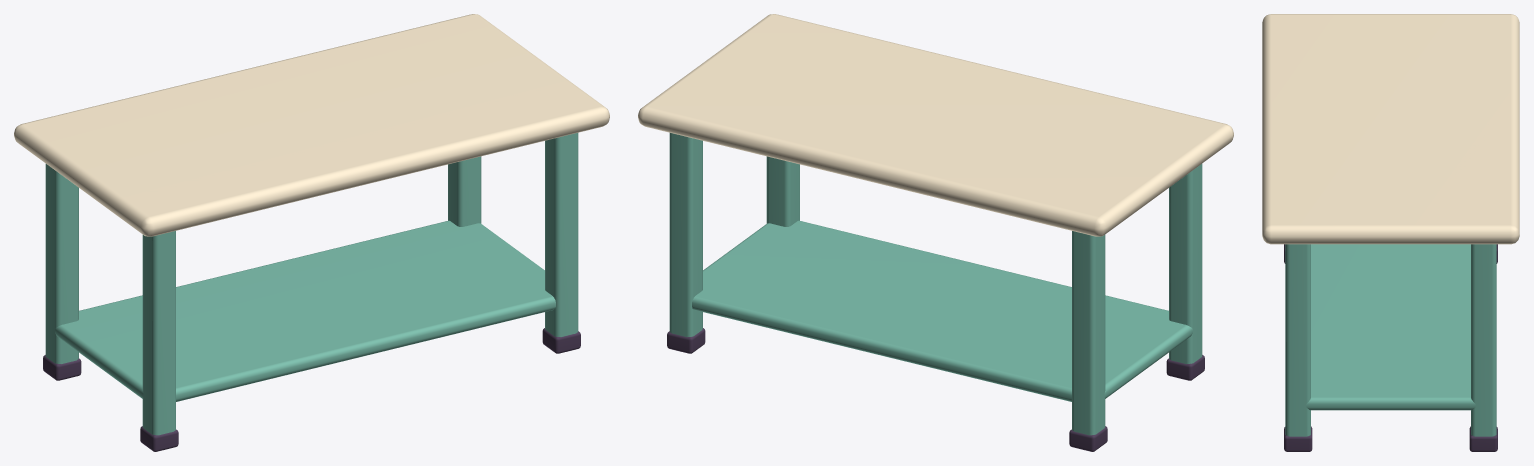
File: Prep_table.fbx
3 renders of one model, left to right at view 1: azimuth 30°, elevation 25°; view 2: azimuth 150°, elevation 25°; view 3: azimuth 270°, elevation 25°, orthographic. The views are drawn at different scales.
Parts seen in each view (by area): view 1: Toon_Prep_table Countertop.001, Toon_Prep_table Lower shelf.001, Toon_Prep_table Mint table leg.004, Toon_Prep_table Mint table leg.006, Toon_Prep_table Mint table leg.005, Toon_Prep_table Mint table leg.007, Toon_Prep_table Rubber foot.004, Toon_Prep_table Rubber foot.005, Toon_Prep_table Rubber foot.006; view 2: Toon_Prep_table Countertop.001, Toon_Prep_table Lower shelf.001, Toon_Prep_table Mint table leg.005, Toon_Prep_table Mint table leg.007, Toon_Prep_table Mint table leg.004, Toon_Prep_table Mint table leg.006, Toon_Prep_table Rubber foot.004, Toon_Prep_table Rubber foot.005, Toon_Prep_table Rubber foot.007; view 3: Toon_Prep_table Countertop.001, Toon_Prep_table Lower shelf.001, Toon_Prep_table Mint table leg.006, Toon_Prep_table Mint table leg.007, Toon_Prep_table Rubber foot.006, Toon_Prep_table Rubber foot.007.
Boxes of the visible parts, x1,y1,x2,y2 form: Toon_Prep_table Countertop.001: [14, 14, 609, 236]; Toon_Prep_table Lower shelf.001: [55, 220, 555, 401]; Toon_Prep_table Mint table leg.004: [142, 231, 175, 435]; Toon_Prep_table Mint table leg.006: [545, 133, 578, 336]; Toon_Prep_table Mint table leg.005: [45, 164, 78, 363]; Toon_Prep_table Mint table leg.007: [448, 156, 481, 226]; Toon_Prep_table Rubber foot.004: [140, 426, 178, 451]; Toon_Prep_table Rubber foot.005: [43, 355, 81, 380]; Toon_Prep_table Rubber foot.006: [542, 328, 580, 353]; Toon_Prep_table Countertop.001: [638, 14, 1233, 236]; Toon_Prep_table Lower shelf.001: [692, 220, 1192, 401]; Toon_Prep_table Mint table leg.005: [1072, 231, 1105, 435]; Toon_Prep_table Mint table leg.007: [669, 133, 702, 336]; Toon_Prep_table Mint table leg.004: [1169, 164, 1202, 363]; Toon_Prep_table Mint table leg.006: [766, 156, 799, 226]; Toon_Prep_table Rubber foot.004: [1166, 355, 1204, 380]; Toon_Prep_table Rubber foot.005: [1069, 426, 1107, 451]; Toon_Prep_table Rubber foot.007: [667, 328, 705, 353]; Toon_Prep_table Countertop.001: [1262, 14, 1519, 244]; Toon_Prep_table Lower shelf.001: [1306, 244, 1475, 410]; Toon_Prep_table Mint table leg.006: [1285, 244, 1310, 436]; Toon_Prep_table Mint table leg.007: [1471, 244, 1496, 436]; Toon_Prep_table Rubber foot.006: [1284, 426, 1312, 451]; Toon_Prep_table Rubber foot.007: [1469, 426, 1497, 451].
Size of the model in its own units: 200 by 100 by 100.
